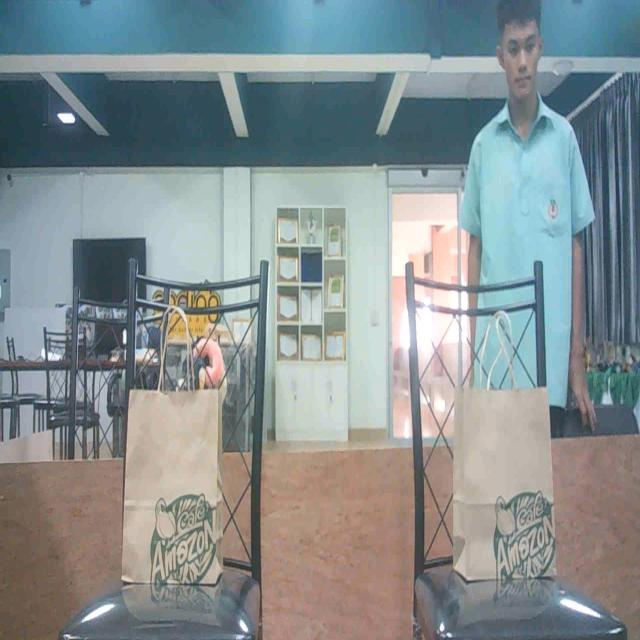bag: (453, 386, 557, 582), (125, 390, 219, 590)
